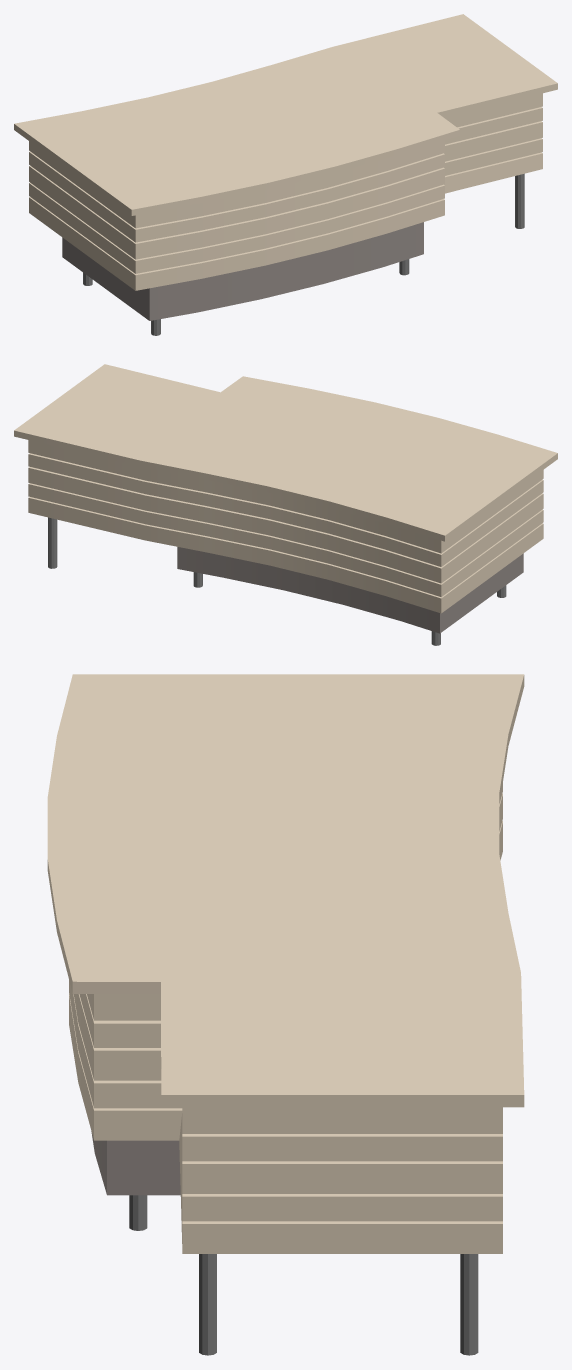
The model's file is AmphiBureau.fbx.
3 renders of one model, top to bottom at view 1: azimuth 30°, elevation 25°; view 2: azimuth 150°, elevation 25°; view 3: azimuth 270°, elevation 25°, orthographic. The views are drawn at different scales.
Parts seen in each view (by area): view 1: pCube1, pCylinder5; view 2: pCube1, pCylinder6; view 3: pCube1, pCylinder6, pCylinder5.
Boxes of the visible parts, left/top/right/bottom form: pCube1: left=14, top=14, right=557, bottom=320; pCylinder5: left=515, top=173, right=524, bottom=228; pCube1: left=14, top=364, right=557, bottom=633; pCylinder6: left=48, top=517, right=57, bottom=568; pCube1: left=47, top=674, right=524, bottom=1253; pCylinder6: left=460, top=1254, right=478, bottom=1355; pCylinder5: left=199, top=1254, right=216, bottom=1355.
Size of the model in its own units: 21.13 by 6.59 by 10.11.
